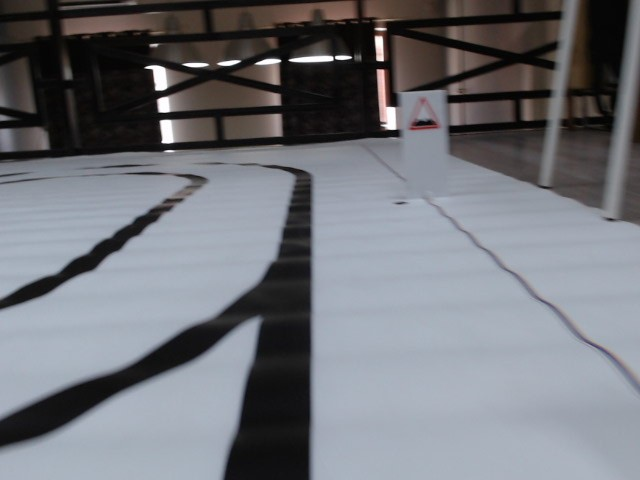Nerov: (408, 95, 441, 134)
